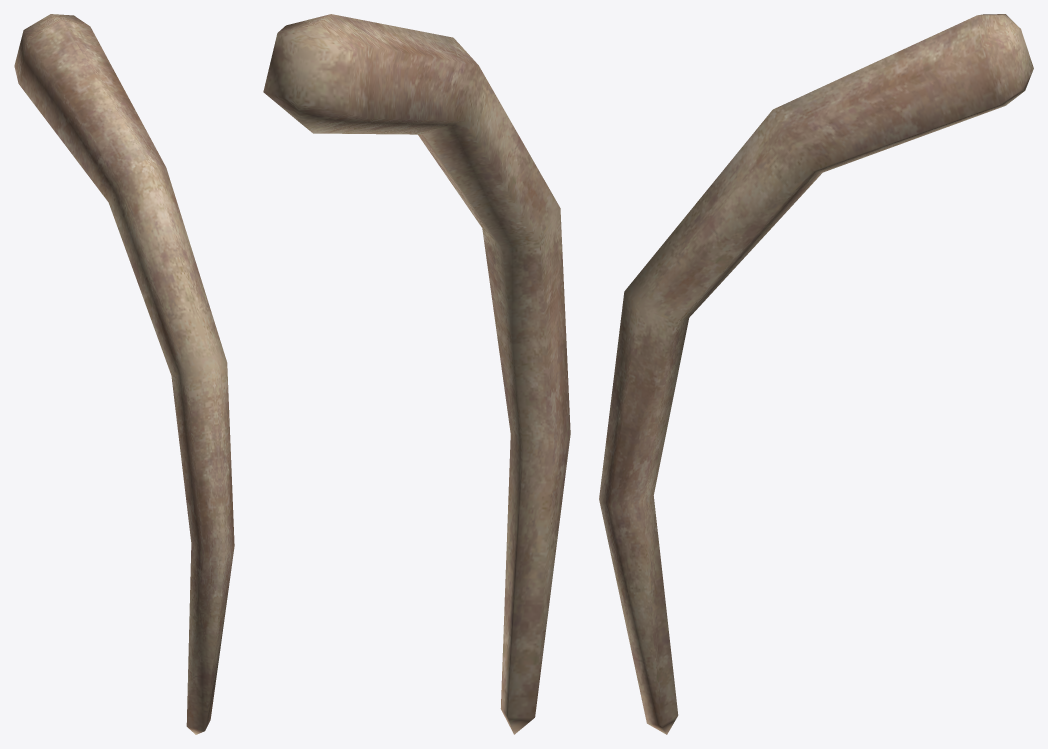
Rendered from OZ_06_hd_born02G.glb.
3 views of the same model, side by side, from view 1: azimuth 30°, elevation 25°; view 2: azimuth 150°, elevation 25°; view 3: azimuth 270°, elevation 25° (orthographic). The views are drawn at different scales.
Parts seen in each view (by area): view 1: OM_06_hd_born02G; view 2: OM_06_hd_born02G; view 3: OM_06_hd_born02G.
Boxes of the visible parts, x1,y1,x2,y2 form: OM_06_hd_born02G: (14,14,234,734); OM_06_hd_born02G: (263,14,570,734); OM_06_hd_born02G: (599,14,1033,734).
Size of the model in its own units: 0.6352 by 5.31 by 2.91.
Materials: 1 (1 with a texture image).
